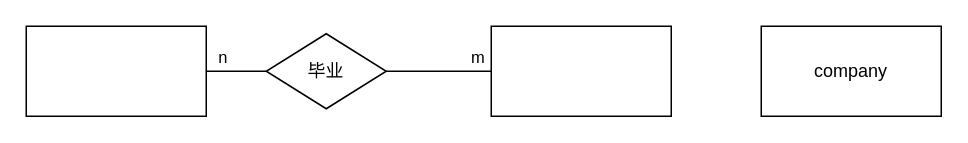
Some shapes in this 968 by 143 pixel diagram are drawn without their labels. Each missing label, with the centre of its shape:
"executive" goes at point (580, 70).
"university" goes at point (115, 70).
